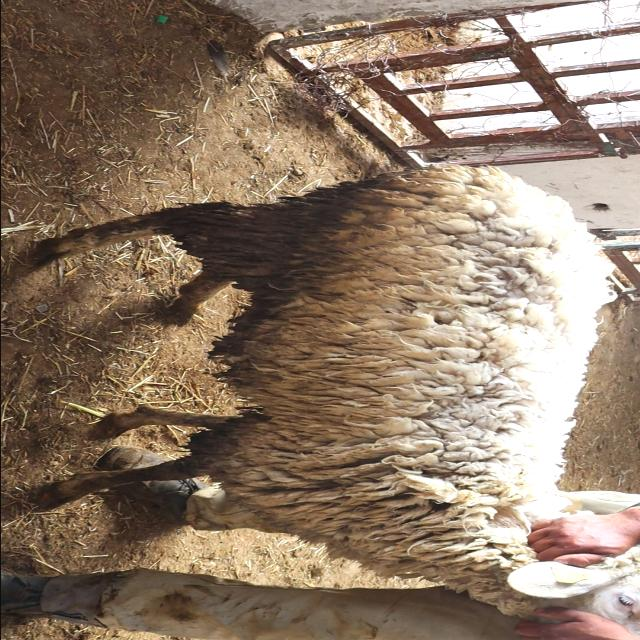Score_4: (32, 165, 640, 635)
